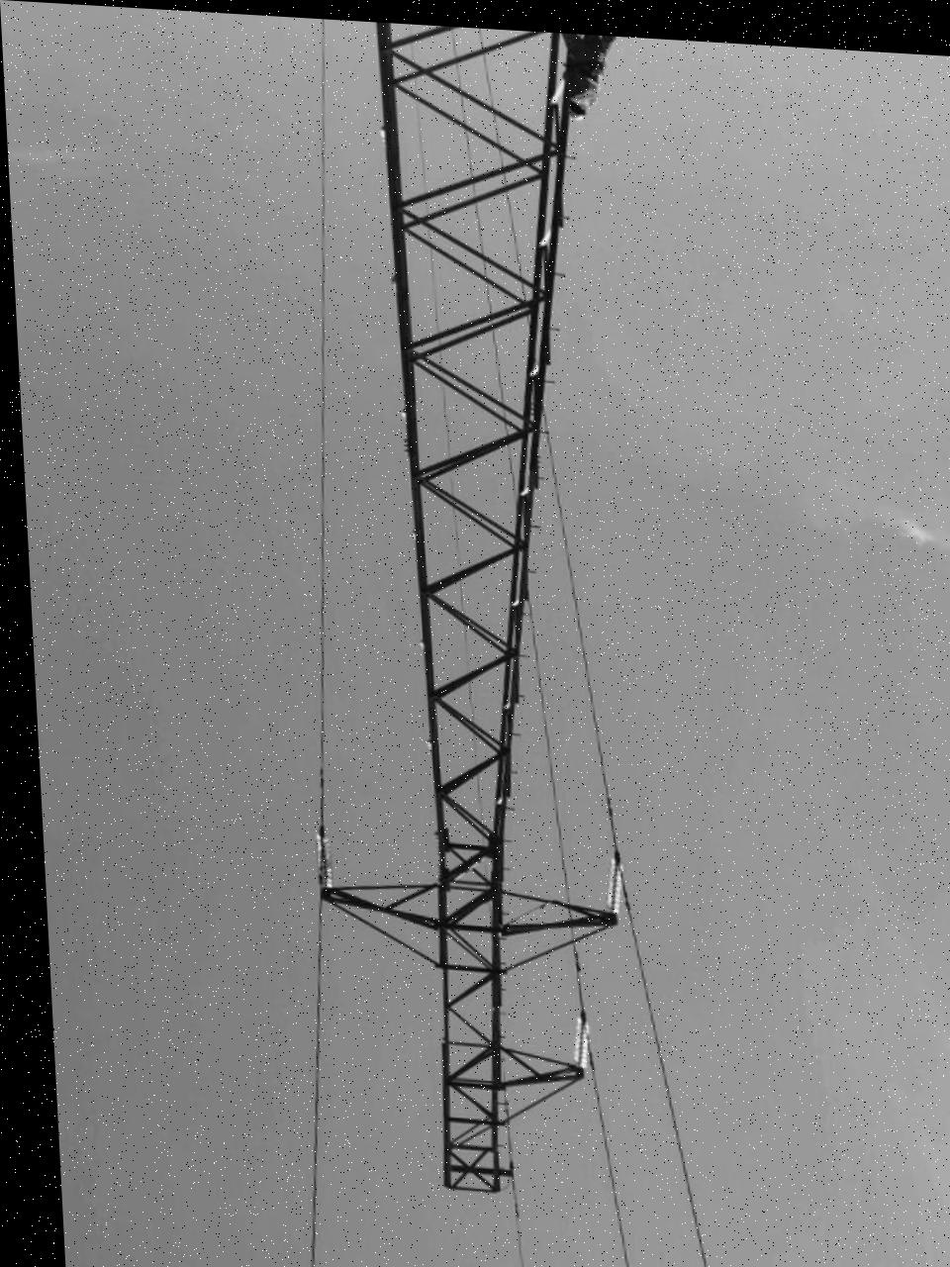tower: (254, 15, 651, 1220)
